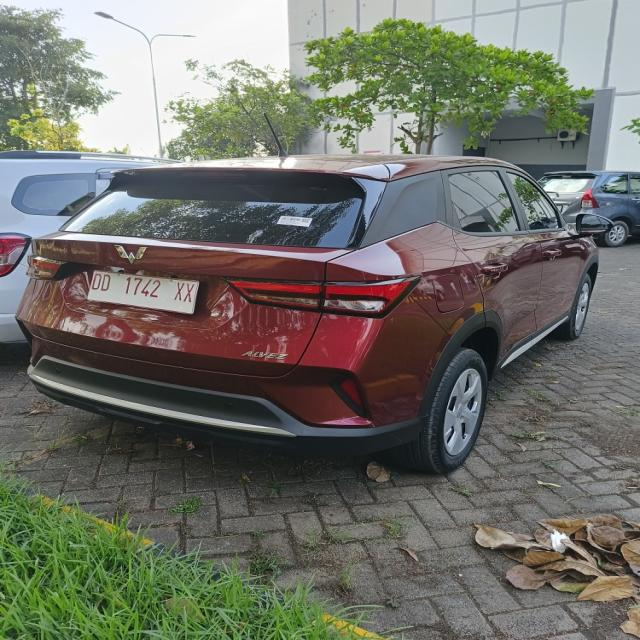plates: (83, 267, 203, 317)
